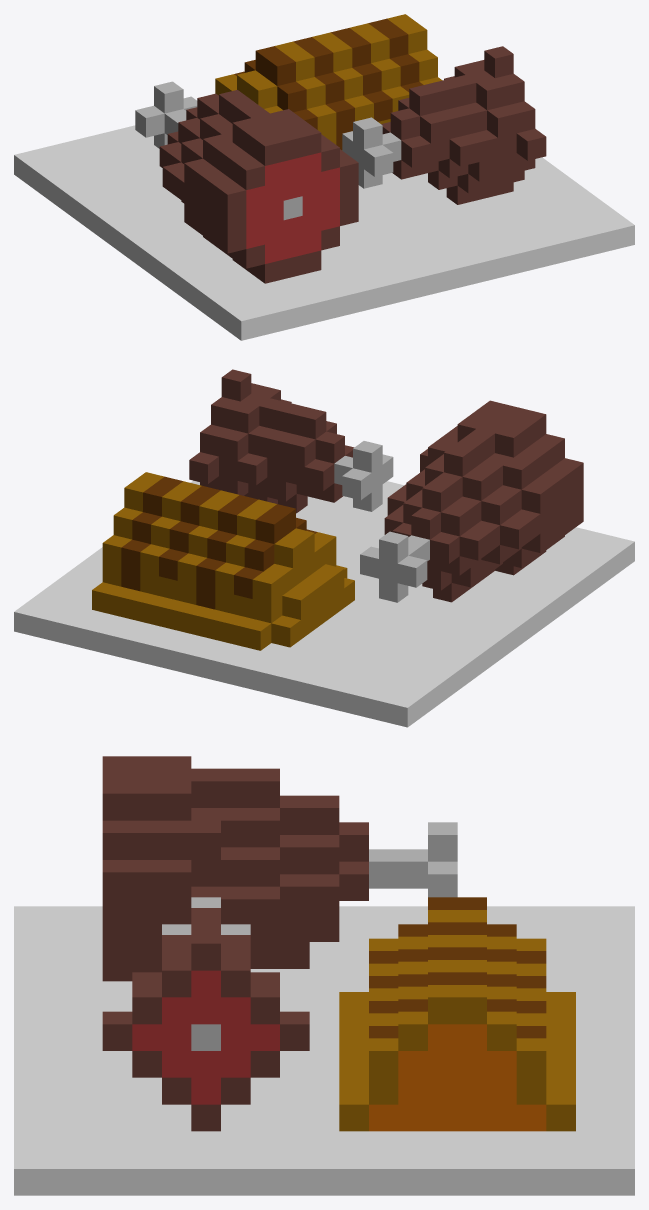
File: MeatPlate.dae
3 renders of one model, top to bottom at view 1: azimuth 30°, elevation 25°; view 2: azimuth 150°, elevation 25°; view 3: azimuth 270°, elevation 25°, orthographic. The views are drawn at different scales.
Visible parts, largest first — view 1: MeatPlate; view 2: MeatPlate; view 3: MeatPlate.
Part boxes in pixels (box(x1,y1,x2,y2)): MeatPlate: box(14, 14, 634, 340); MeatPlate: box(14, 369, 634, 727); MeatPlate: box(14, 756, 634, 1195).
Size of the model in its own units: 21 by 21 by 8.
Materials: 1 (1 with a texture image).
